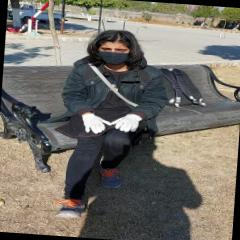gloved: (82, 112, 114, 135), (112, 113, 144, 133)
